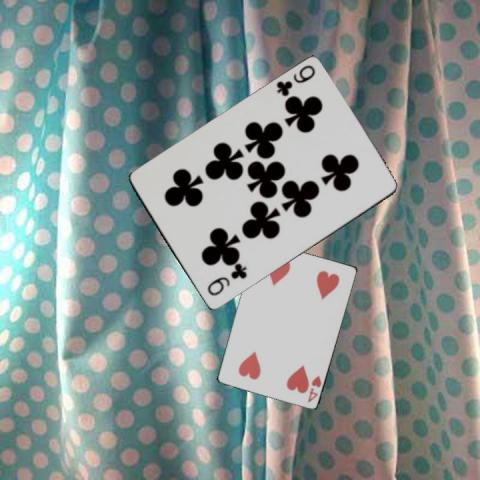4h: (304, 373, 322, 403)
9c: (272, 62, 316, 99), (204, 263, 248, 298)
